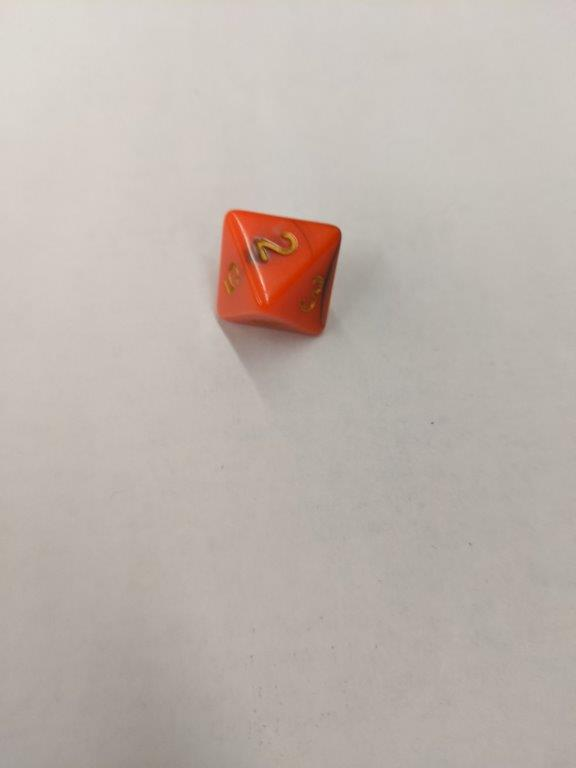d8-2: (216, 209, 344, 339)
